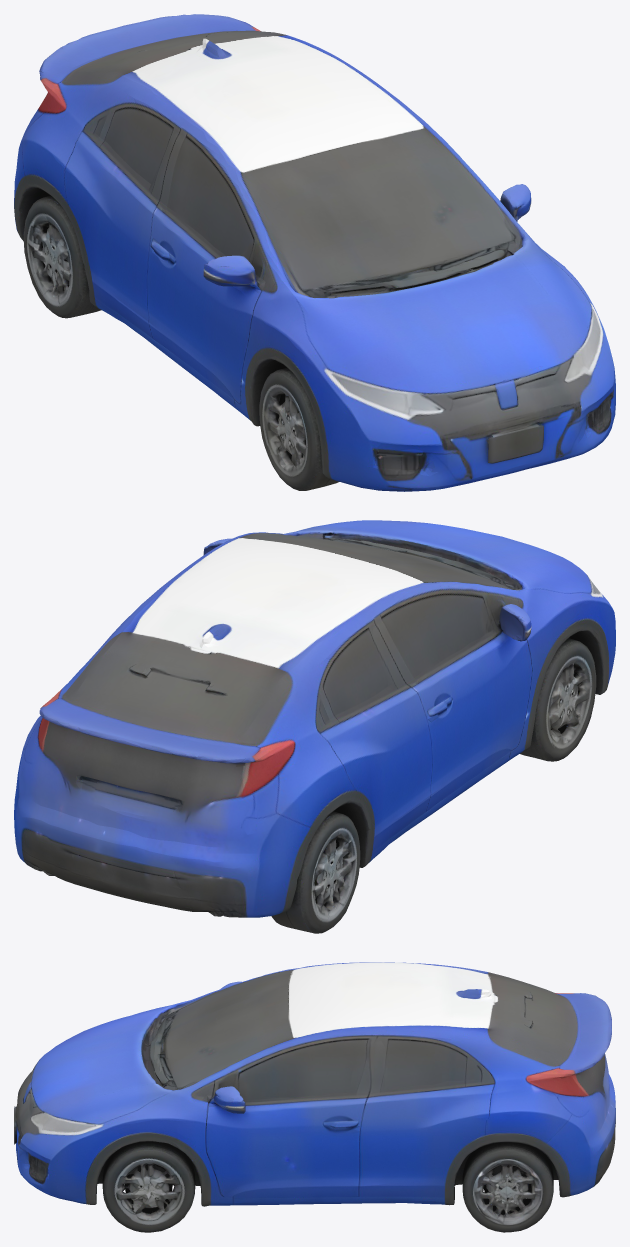
File: car1.glb
The picture shows the model from 3 angles, top to bottom: view 1: azimuth 30°, elevation 25°; view 2: azimuth 150°, elevation 25°; view 3: azimuth 270°, elevation 25°; orthographic projection. The views are drawn at different scales.
Parts seen in each view (by area): view 1: Mesh; view 2: Mesh; view 3: Mesh.
Part boxes in pixels (left/top/right/bottom): Mesh: left=14, top=14, right=615, bottom=491; Mesh: left=14, top=520, right=615, bottom=933; Mesh: left=14, top=962, right=615, bottom=1232.
Size of the model in its own units: 0.9002 by 0.6737 by 1.9.
1 material, 1 textured.
